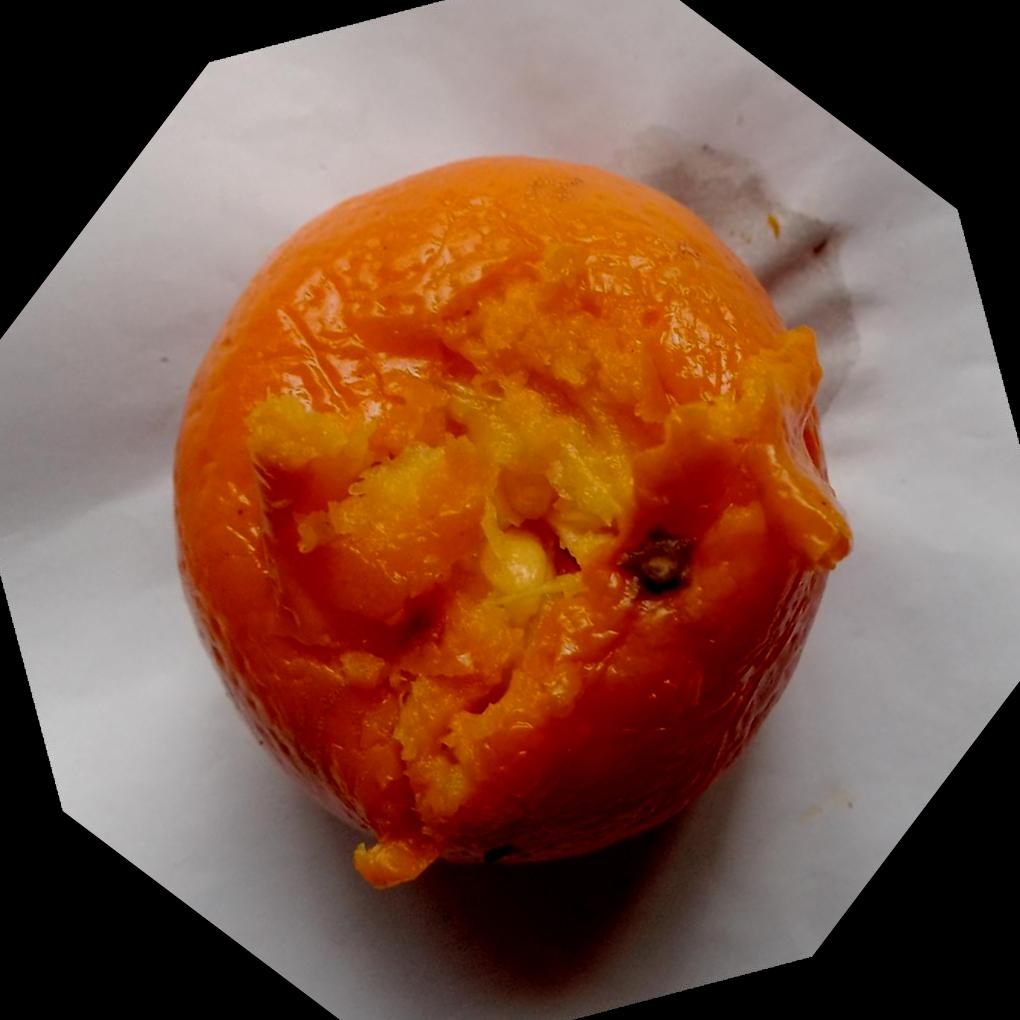FreshOrange: (172, 153, 855, 895)
